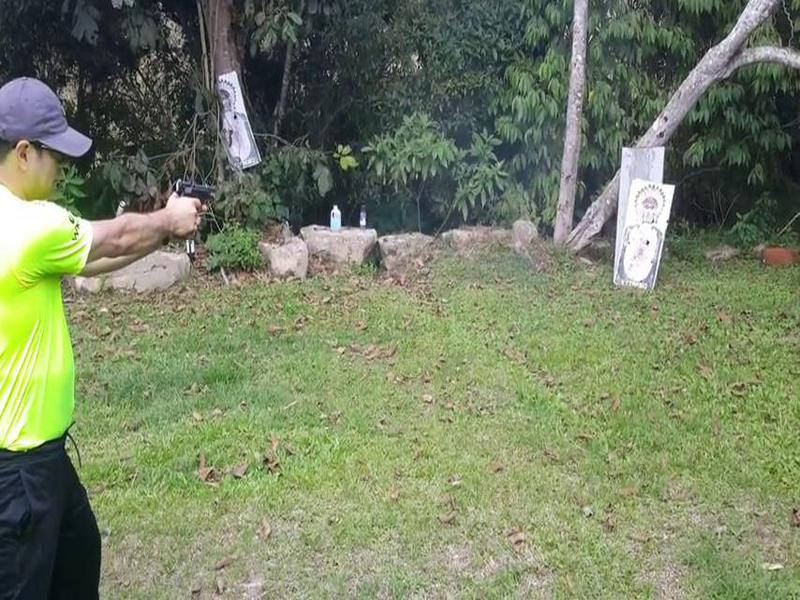Pistola: (160, 170, 219, 221)
